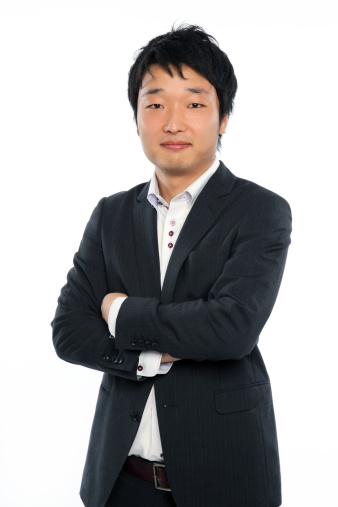em pe: (24, 22, 300, 507)
